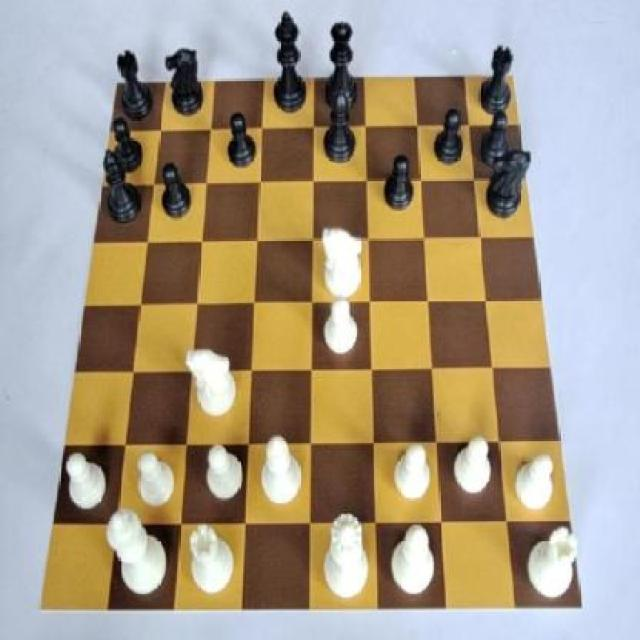bishop: (101, 146, 147, 237), (320, 85, 360, 169)
black-bishop: (269, 8, 310, 123)
black-king: (483, 146, 534, 221), (165, 46, 212, 122)
black-knight: (105, 120, 146, 180), (383, 155, 419, 223), (223, 104, 257, 170), (432, 103, 466, 167), (159, 163, 193, 225), (482, 111, 512, 172)
black-pawn: (323, 23, 363, 122)
black-queen: (111, 48, 159, 125), (480, 40, 515, 119)
black-rook: (385, 520, 437, 605), (256, 431, 306, 511)
white-bishop: (106, 511, 169, 600)
white-king: (184, 346, 246, 422), (317, 224, 368, 304)
white-knight: (383, 438, 439, 508), (199, 438, 246, 512), (320, 290, 364, 368), (130, 444, 182, 510), (449, 434, 498, 504), (63, 446, 111, 516), (511, 443, 555, 509)
white-pawn: (325, 514, 369, 598)
white-queen: (524, 523, 580, 605), (184, 523, 238, 592)
